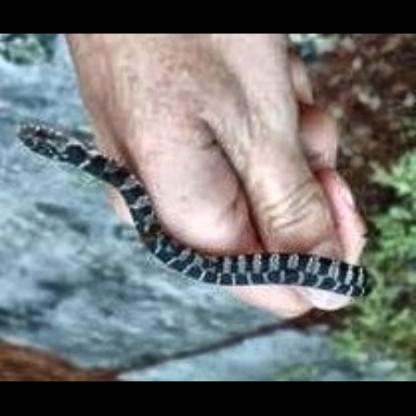Snake: (12, 122, 370, 311)
